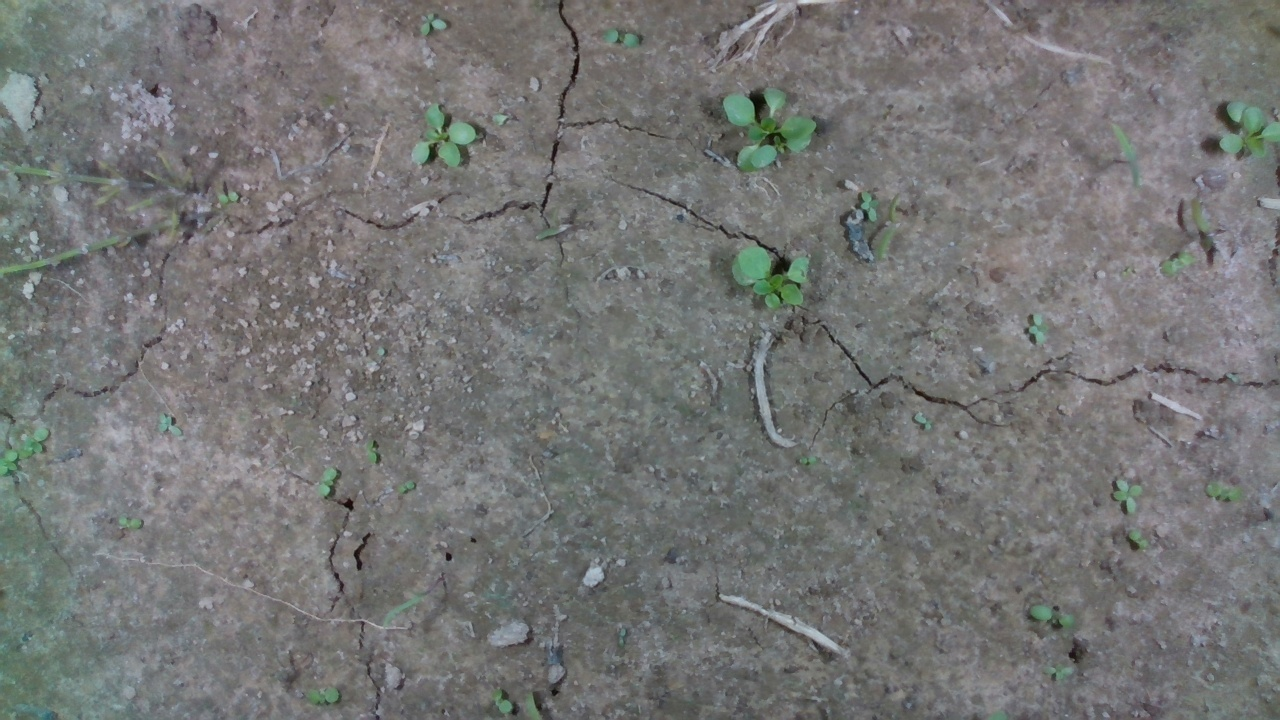weed: (102, 509, 152, 538), (1112, 475, 1147, 516), (151, 404, 182, 444), (601, 25, 645, 53), (1023, 298, 1047, 347), (313, 462, 339, 504), (415, 10, 450, 39), (1044, 660, 1083, 686), (856, 184, 880, 222), (359, 437, 382, 473), (397, 479, 421, 504), (217, 189, 253, 205)
